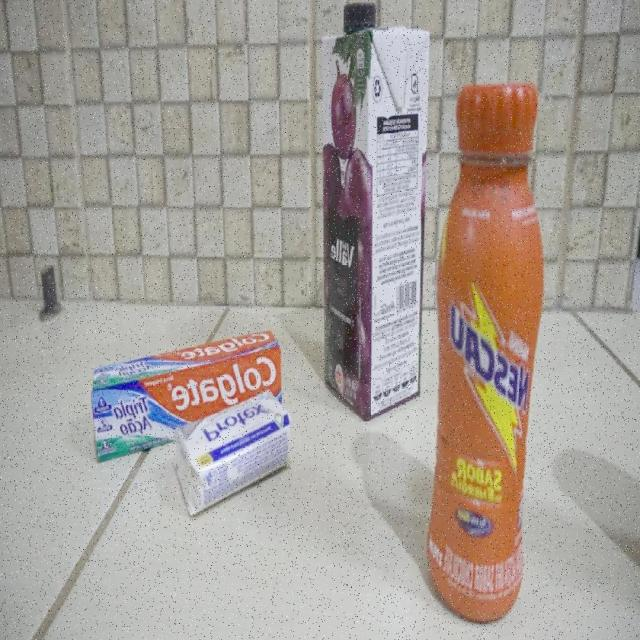ChocolateMilk: (425, 78, 549, 628), (423, 81, 546, 625)
Soap: (173, 388, 292, 519), (173, 399, 293, 508)
Toothpaste: (91, 335, 282, 473), (90, 330, 282, 466)
